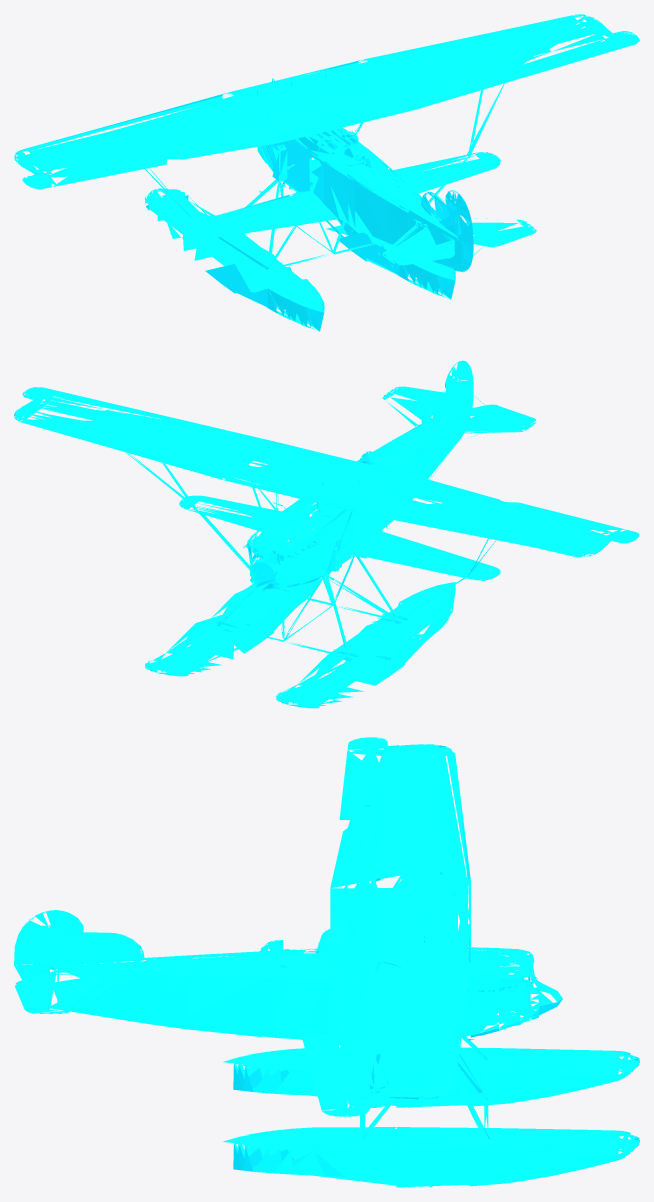
File: PHAF001.glb
The picture shows the model from 3 angles, top to bottom: view 1: azimuth 30°, elevation 25°; view 2: azimuth 150°, elevation 25°; view 3: azimuth 270°, elevation 25°; orthographic projection. The views are drawn at different scales.
Parts seen in each view (by area): view 1: misc; view 2: misc; view 3: misc.
Boxes of the visible parts, <box> form: misc: <box>14,14,639,331</box>; misc: <box>14,360,639,708</box>; misc: <box>14,737,639,1187</box>.
Size of the model in its own units: 0.7783 by 0.227 by 0.5555.
